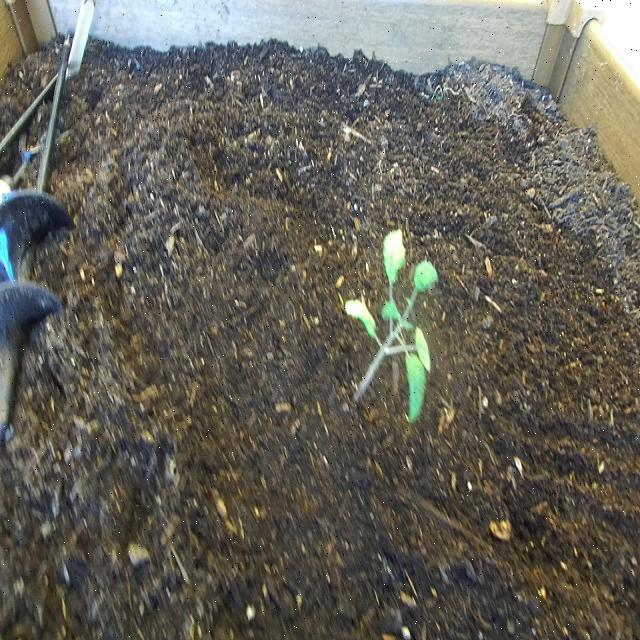Healthy: (343, 222, 442, 432)
